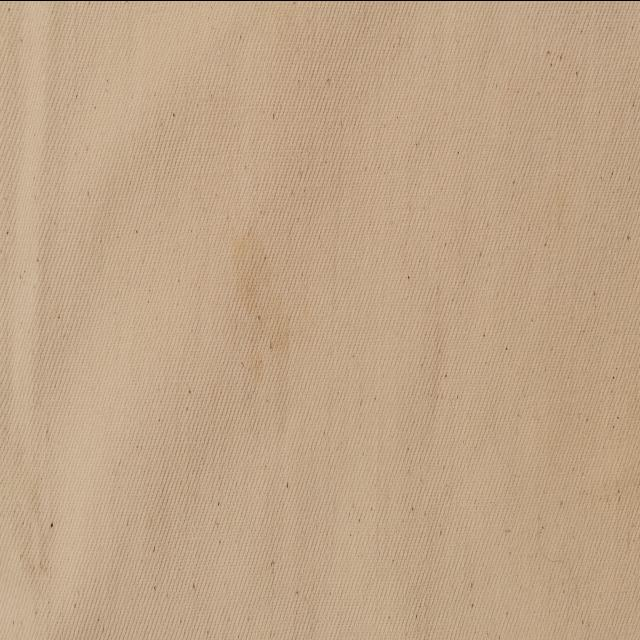taaaches: (216, 220, 308, 427)
